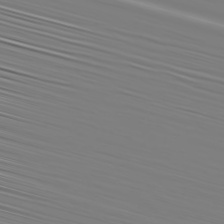cavities: (2, 92, 122, 140)
